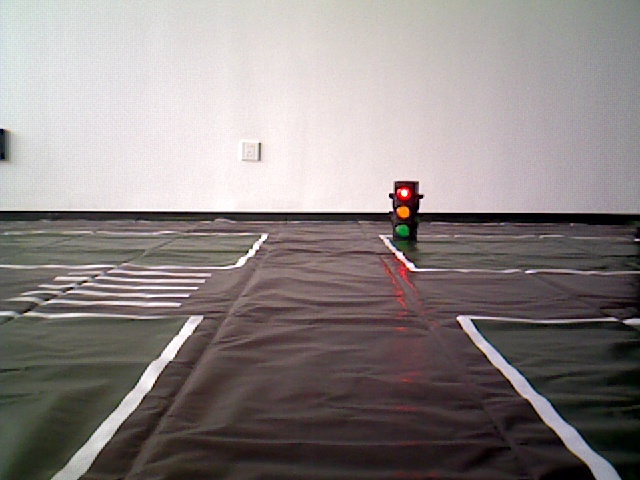red: (391, 182, 413, 240)
